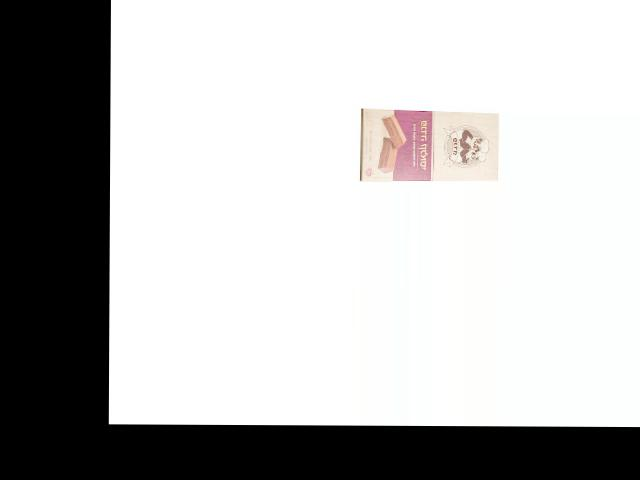chocolate: (359, 106, 499, 179)
